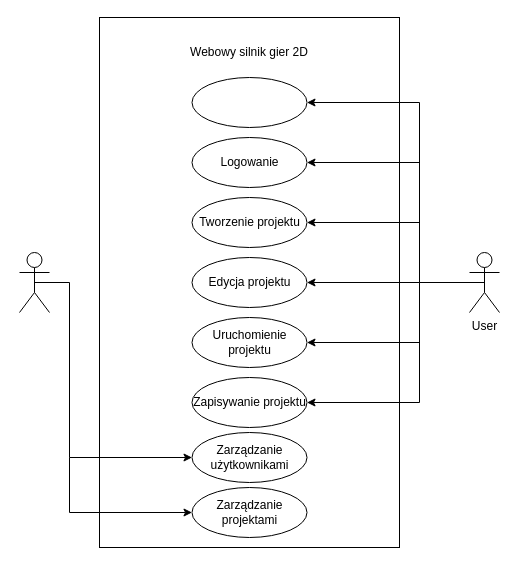
This 517x565 diagram has some shape labels left out. The centre of each missing label's shape, as x and y in pixels:
Admin: point 34,282
Rejestracja: point 249,102
